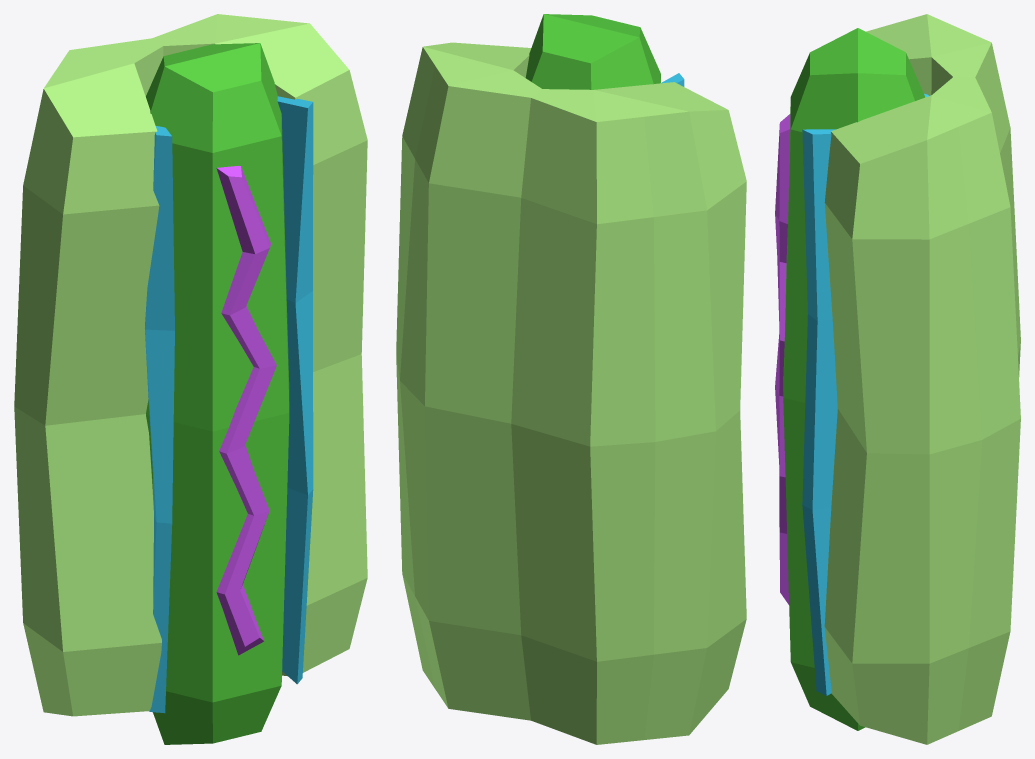
The model's file is 020_Hotdog.fbx.
3 renders of one model, left to right at view 1: azimuth 30°, elevation 25°; view 2: azimuth 150°, elevation 25°; view 3: azimuth 270°, elevation 25°, orthographic. The views are drawn at different scales.
Visible parts, largest first — view 1: HOTDOG; view 2: HOTDOG; view 3: HOTDOG.
Part boxes in pixels (x1,y1,x2,y2): HOTDOG: [14, 14, 367, 744]; HOTDOG: [396, 14, 746, 744]; HOTDOG: [775, 14, 1020, 744].
Bounding box in the file's own units: 49.34 × 100 × 33.89.
